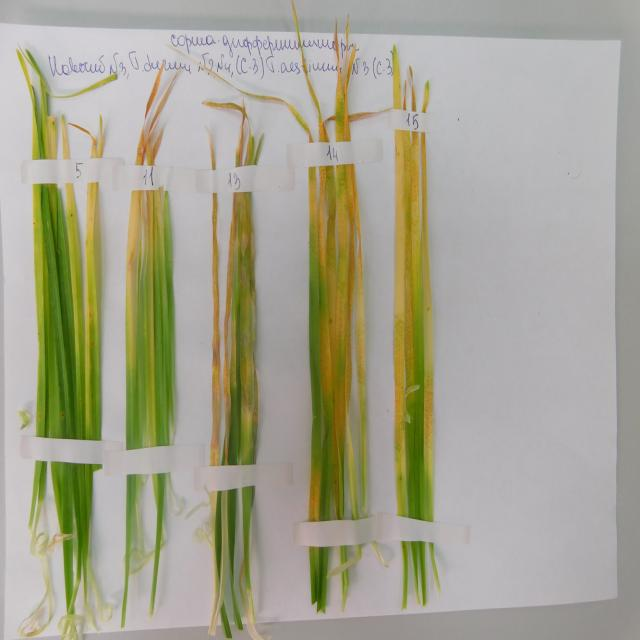wheat-yellowrust: (308, 40, 366, 522), (391, 128, 435, 527), (224, 195, 257, 461), (125, 191, 170, 366), (60, 114, 83, 364), (84, 129, 104, 352), (209, 196, 221, 469)
